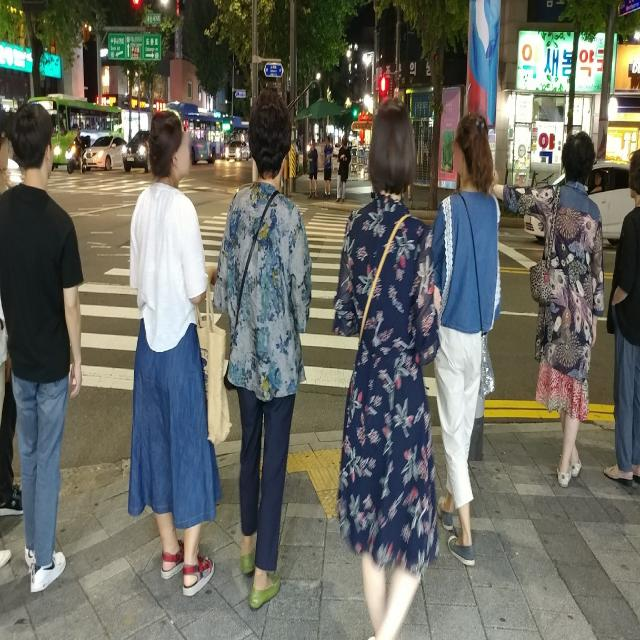빨간불: (378, 76, 392, 115)
횡단보도: (68, 203, 437, 398)
